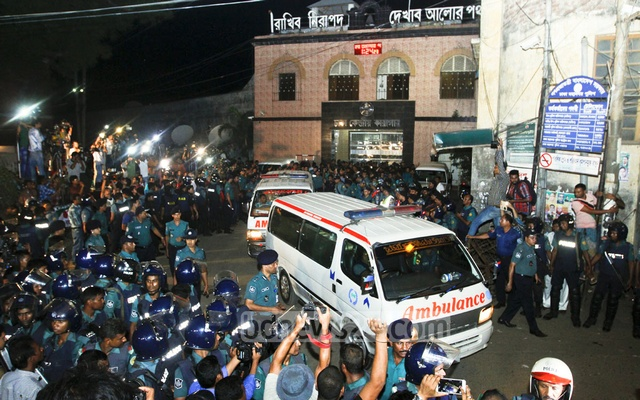ambulance: (266, 190, 493, 367), (246, 170, 312, 260)
